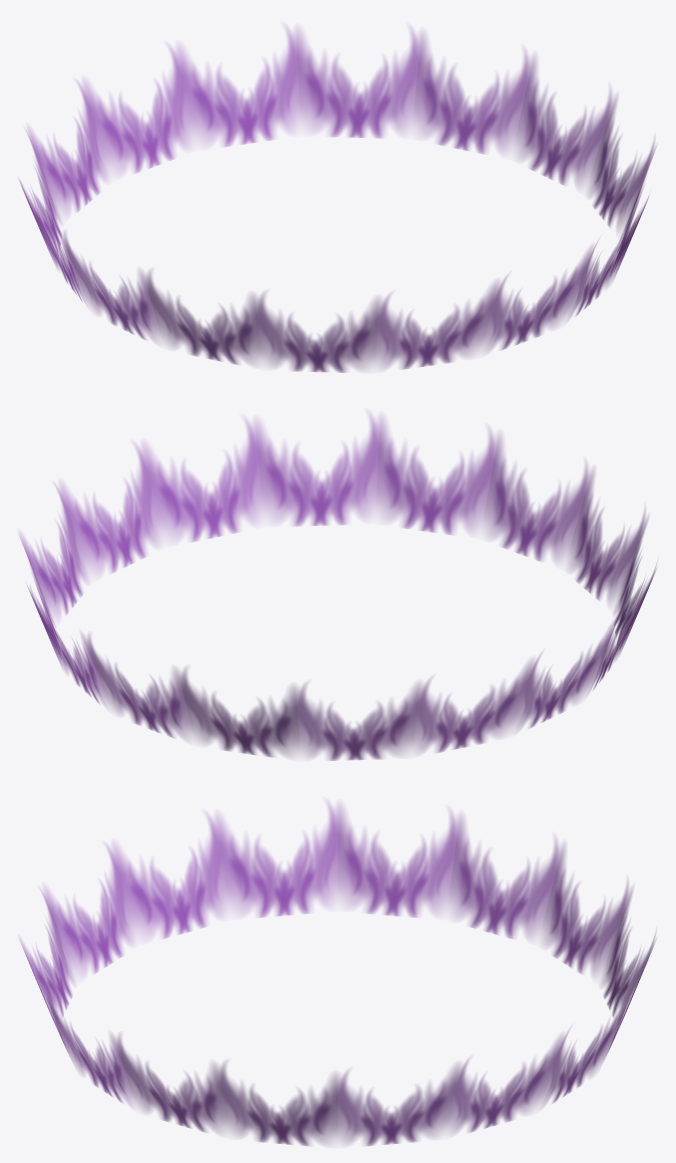
File: area_fx.glb
3 renders of one model, top to bottom at view 1: azimuth 30°, elevation 25°; view 2: azimuth 150°, elevation 25°; view 3: azimuth 270°, elevation 25°, orthographic.
Parts seen in each view (by area): view 1: AreaFX; view 2: AreaFX; view 3: AreaFX.
Part boxes in pixels (x1,y1,x2,y2): AreaFX: (19,26,656,372); AreaFX: (19,413,656,760); AreaFX: (19,802,655,1145).
Size of the model in its own units: 1.74 by 0.3054 by 1.74.
1 material, 1 textured.
